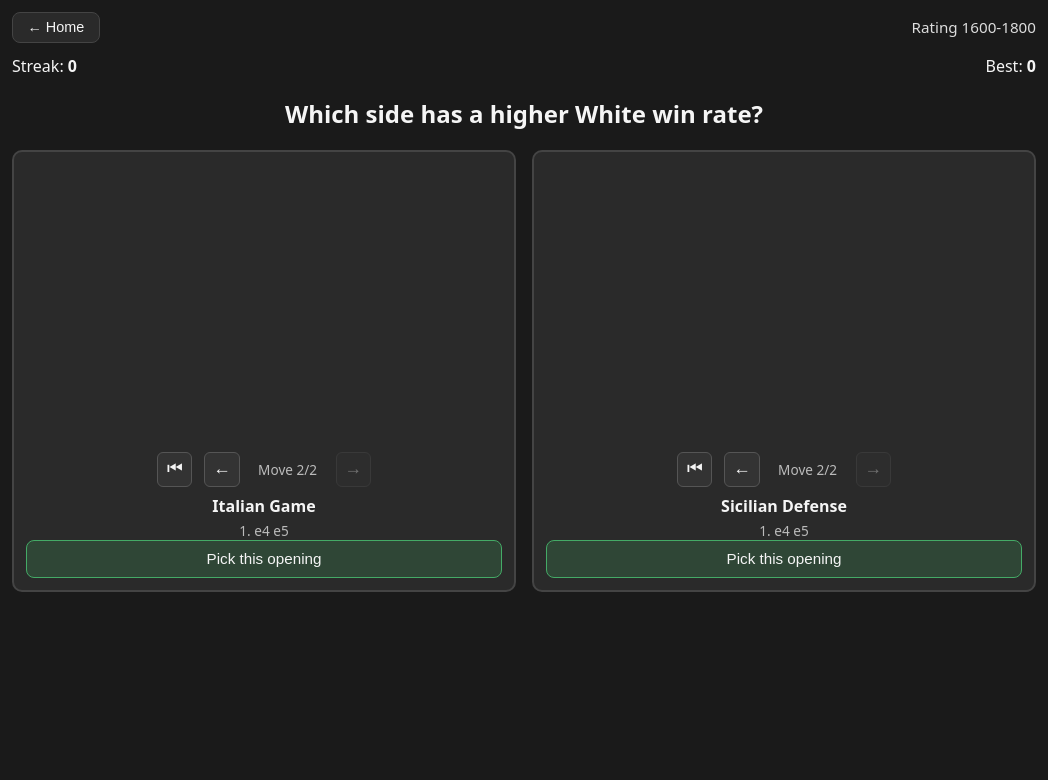
Test: GameScreen layout › renders the English question and Next button under an en provider
The width and height of the screenshot is (1048, 780).
Check: the heading "Which side has a higher White win rate?" is shown, box [285,97,763,130]
Click the button "Pick this opening" below "Italian Game". click: (264, 559)
box: [26,540,502,578]
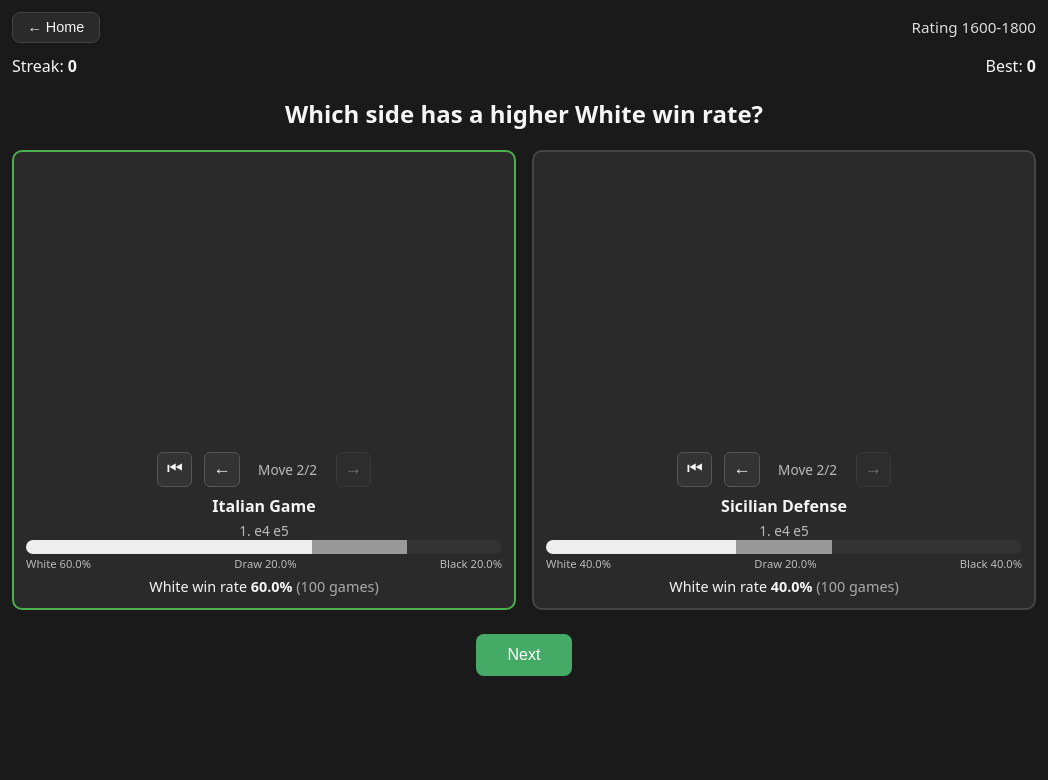
Check: the button "Next" is shown, box [476,634,572,676]
